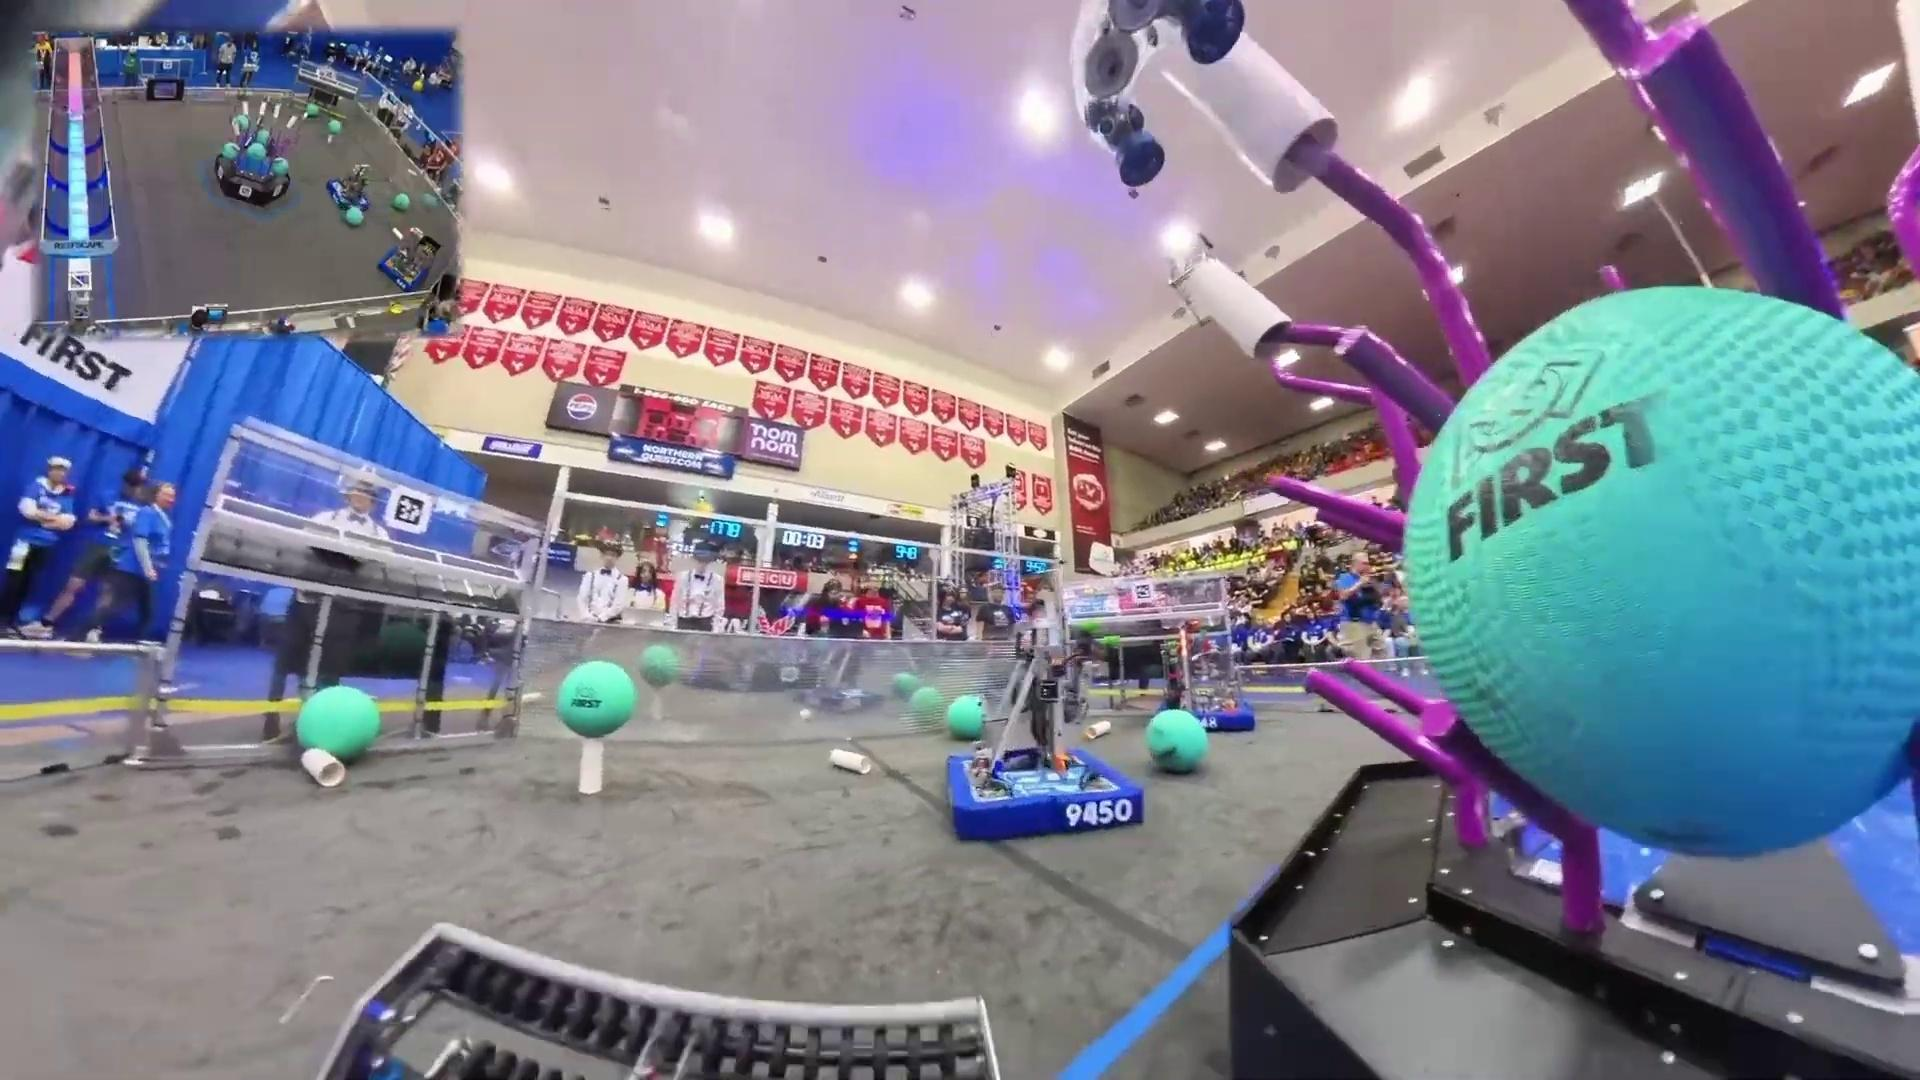robot: (945, 630, 1142, 843), (1149, 620, 1257, 733), (378, 233, 440, 293), (326, 162, 371, 214)
